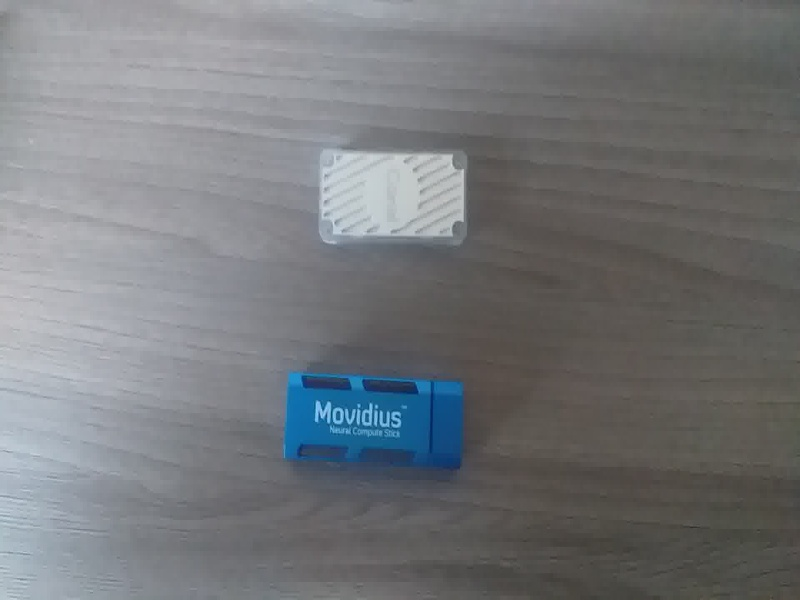coral: (310, 141, 486, 257)
movidius: (276, 359, 484, 483)
